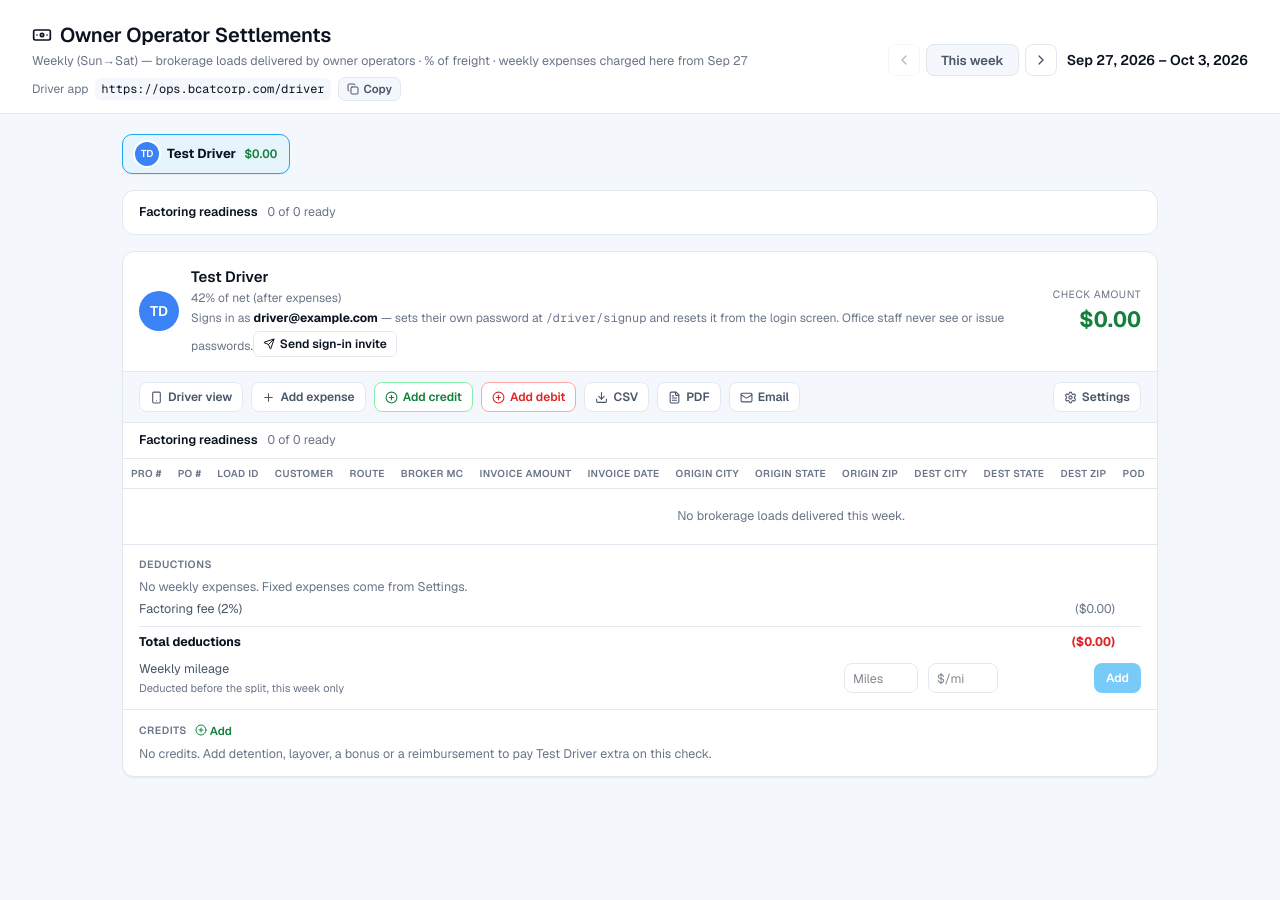
Test: OwnerOperatorPayPage › drops the upcoming label once you come back to this week
Click the button named "next week". click: (1041, 60)
box: x1=1025 y1=44 x2=1057 y2=76
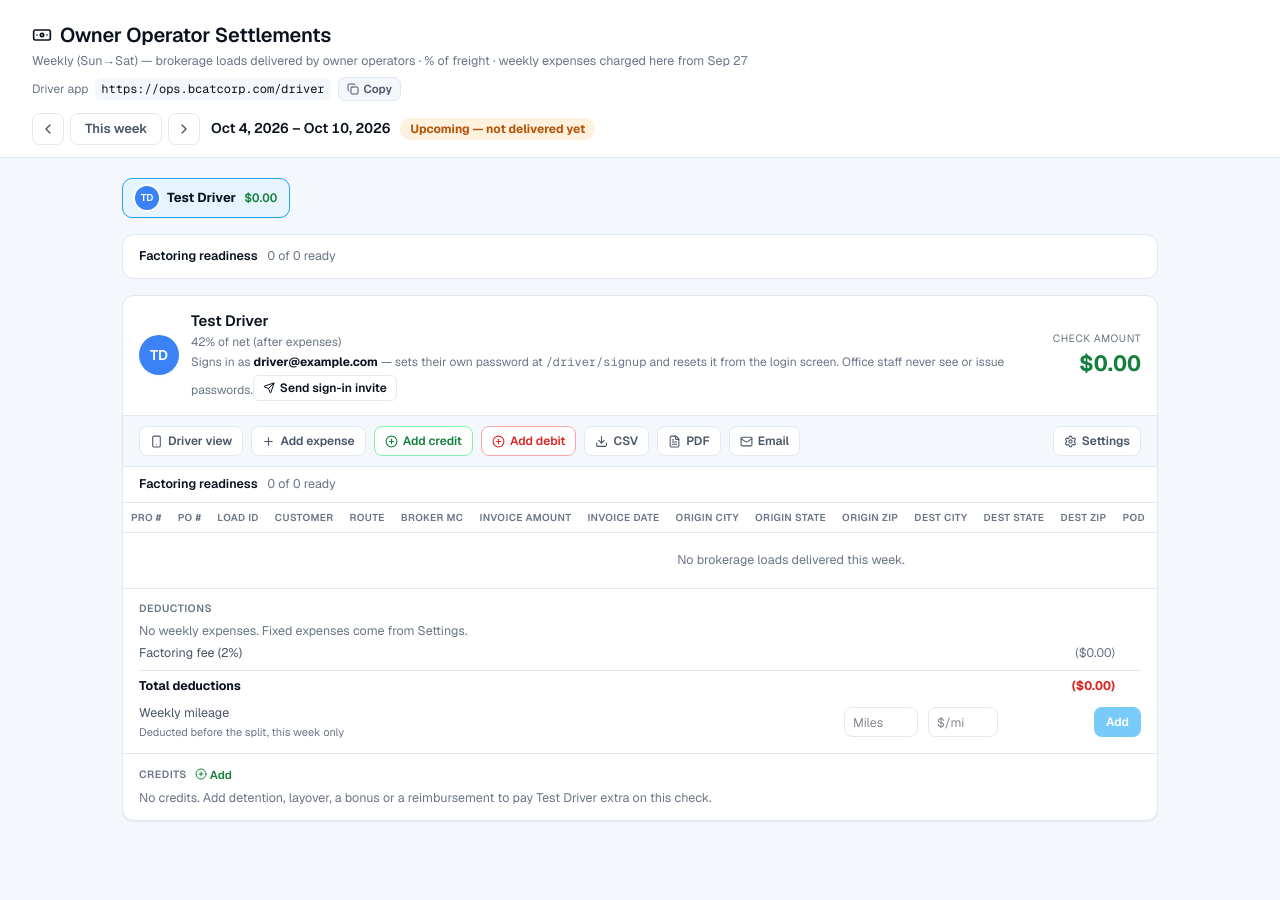
Now the text "Upcoming — not delivered yet" is shown, box x1=400 y1=118 x2=595 y2=140
Click the button "This week". click: (116, 129)
box: x1=70 y1=113 x2=162 y2=145
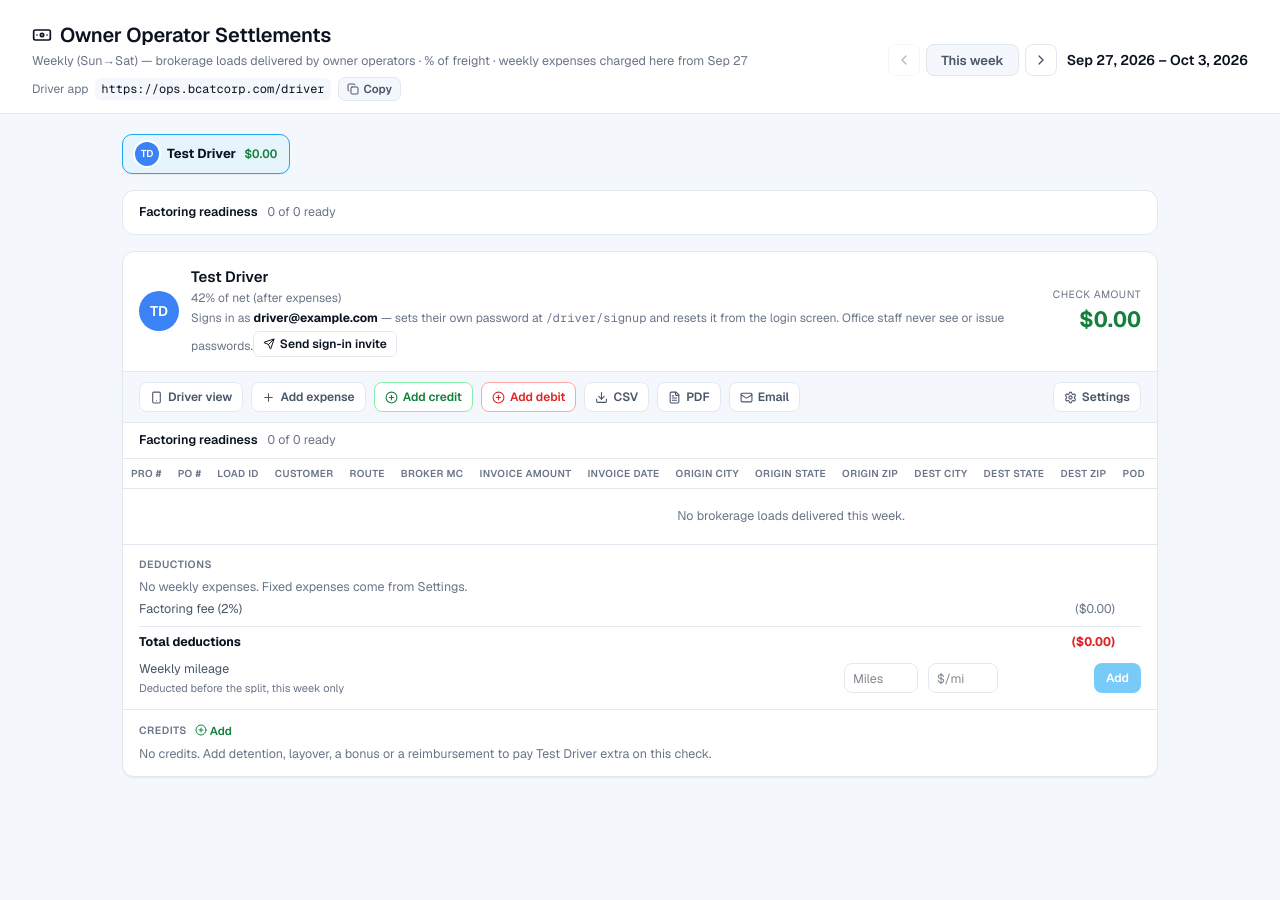
Now the text "Upcoming" is gone
